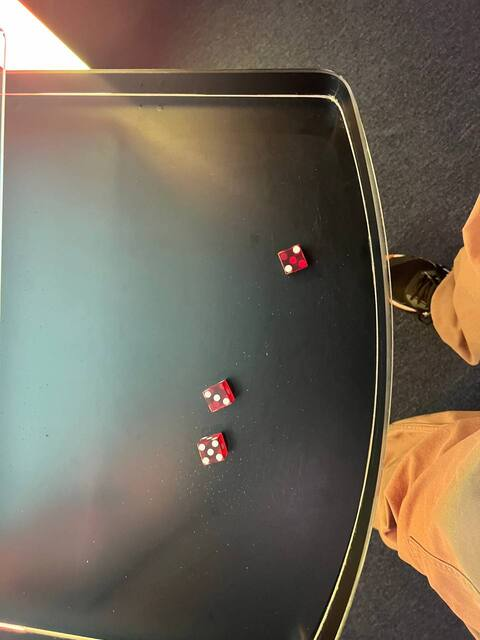five: (196, 436, 229, 467)
three: (200, 379, 237, 414)
two: (274, 242, 312, 277)
